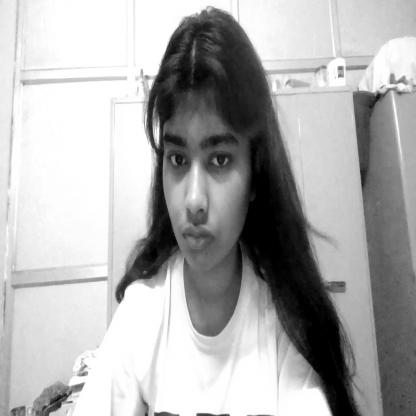Normal: (146, 8, 276, 276)
